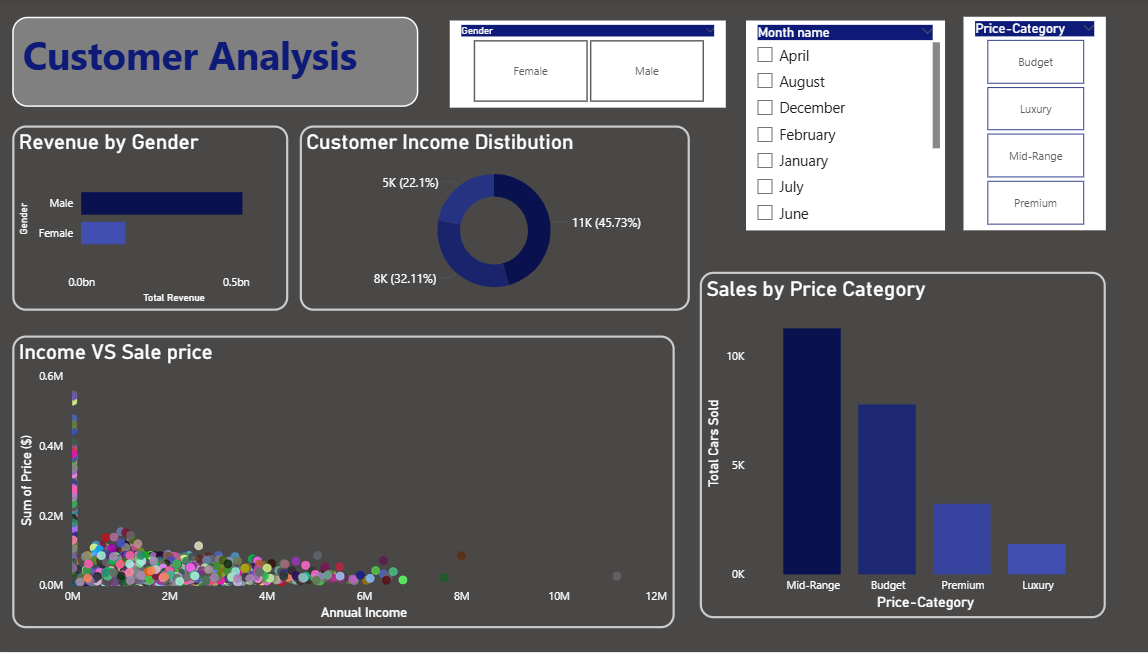

What the dashboard file says about the page in this screenshot:
{"tool":"powerbi","page":{"name":"Customer Analysis","canvas":[1280,720],"ordinal":2},"visuals":[{"type":"barChart","title":"Revenue by Gender","fields":{"Category":["car_data.Gender"],"Y":["car_data.Total Revenue"]},"box":[17.9,140.4,304.2,203.7],"z":0},{"type":"scatterChart","title":"Income VS Sale price","fields":{"Y":["Sum(car_data.Price ($))"],"X":["car_data.Annual Income"],"Series":["car_data.Customer Name"]},"box":[17.9,371.7,729.6,322.1],"z":1000},{"type":"clusteredColumnChart","title":"Sales by Price Category","fields":{"Category":["car_data.Price-Category"],"Y":["car_data.Total Cars Sold"]},"box":[775.1,301.5,447.4,381.3],"z":2000},{"type":"donutChart","title":"Customer Income Distibution","fields":{"Category":["car_data.Income-Category"],"Y":["car_data.Total Cars Sold"]},"box":[334.5,140.4,429.5,203.7],"z":3000},{"type":"textbox","box":[17.9,20.6,447.4,99.1],"z":4000},{"type":"slicer","fields":{"Values":["car_data.Gender"]},"box":[499.7,24.8,304.2,96.4],"z":4001},{"type":"slicer","fields":{"Values":["car_data.Month name"]},"box":[826,24.8,218.9,231.3],"z":4002},{"type":"slicer","fields":{"Values":["car_data.Price-Category"]},"box":[1065.5,20.6,156.9,235.4],"z":4003}]}

Visuals, with their boxes in screenshot pixels (x1, y1, x2, y2), scaled from the page's 1280x720 canvas onto the 1148x653 screenshot:
"Revenue by Gender" barChart: (x1=16, y1=127, x2=289, y2=312)
"Income VS Sale price" scatterChart: (x1=16, y1=337, x2=670, y2=629)
"Sales by Price Category" clusteredColumnChart: (x1=695, y1=273, x2=1096, y2=619)
"Customer Income Distibution" donutChart: (x1=300, y1=127, x2=685, y2=312)
textbox: (x1=16, y1=19, x2=417, y2=109)
slicer - car_data.Gender: (x1=448, y1=22, x2=721, y2=110)
slicer - car_data.Month name: (x1=741, y1=22, x2=937, y2=232)
slicer - car_data.Price-Category: (x1=956, y1=19, x2=1096, y2=232)
